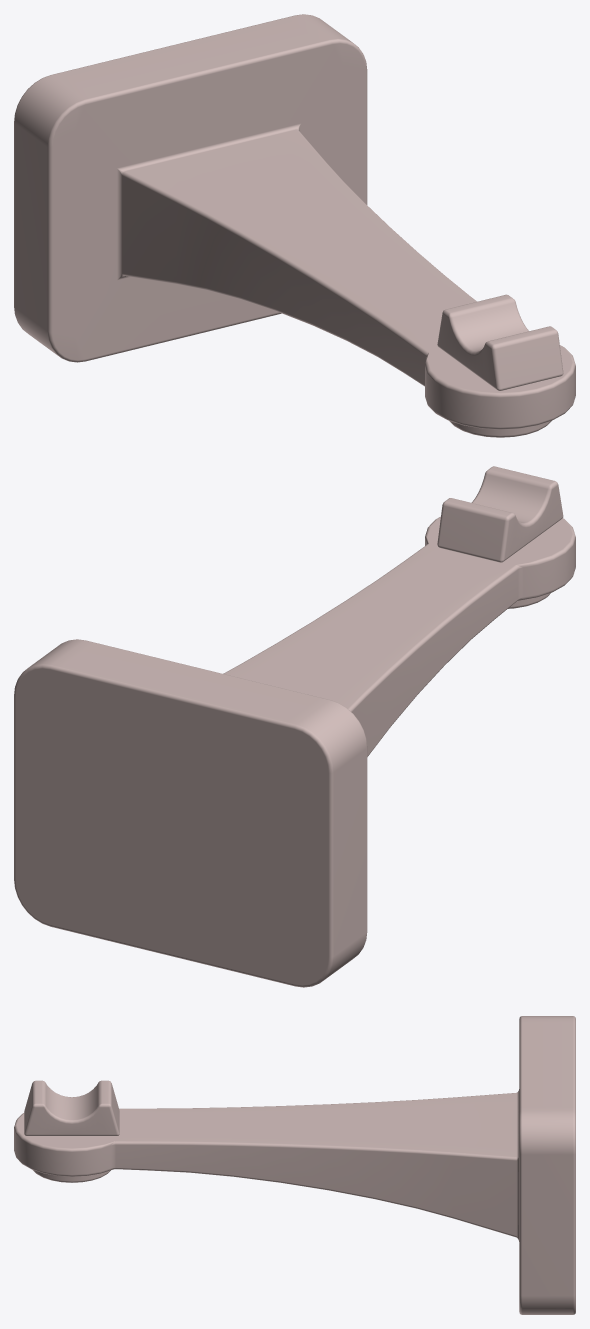
The picture shows the model from 3 angles, top to bottom: view 1: azimuth 30°, elevation 25°; view 2: azimuth 150°, elevation 25°; view 3: azimuth 270°, elevation 25°; orthographic projection. The views are drawn at different scales.
Visible parts, largest first — view 1: 柱体.003, 柱体.002; view 2: 柱体.003, 柱体.002; view 3: 柱体.003, 柱体.002.
Boxes of the visible parts, left/top/right/bottom form: 柱体.003: left=14, top=14, right=575, bottom=437; 柱体.002: left=437, top=294, right=563, bottom=390; 柱体.003: left=14, top=516, right=575, bottom=987; 柱体.002: left=437, top=466, right=563, bottom=562; 柱体.003: left=14, top=1016, right=575, bottom=1314; 柱体.002: left=24, top=1080, right=119, bottom=1135.
Size of the model in its own units: 2.27 by 1.78 by 4.51.
